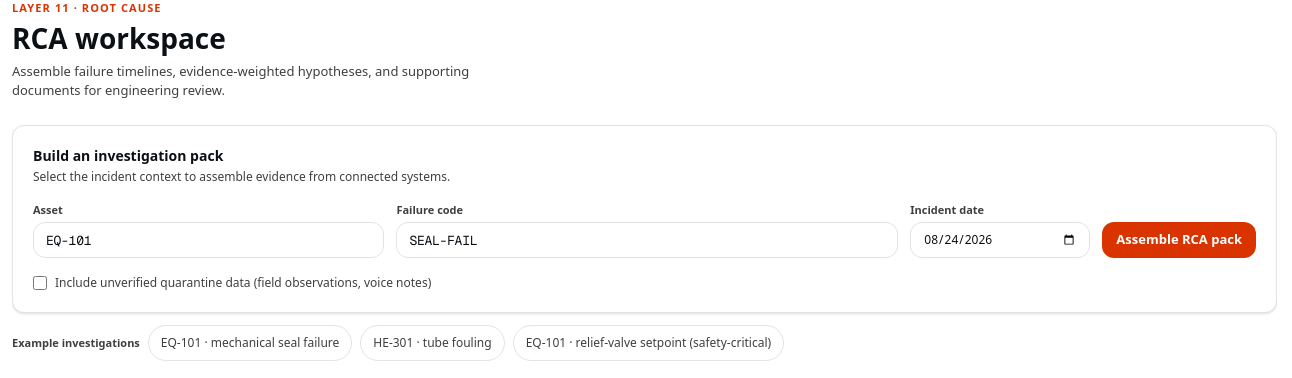
Test: RcaPage › shows the synthesis-unavailable notice and empty-hypotheses state
What coordinates should you click on to do the following:
click the button "Assemble RCA pack"
I would click on:
 (1179, 240)
Its box is [1102,222,1256,258].
(page scrolled)
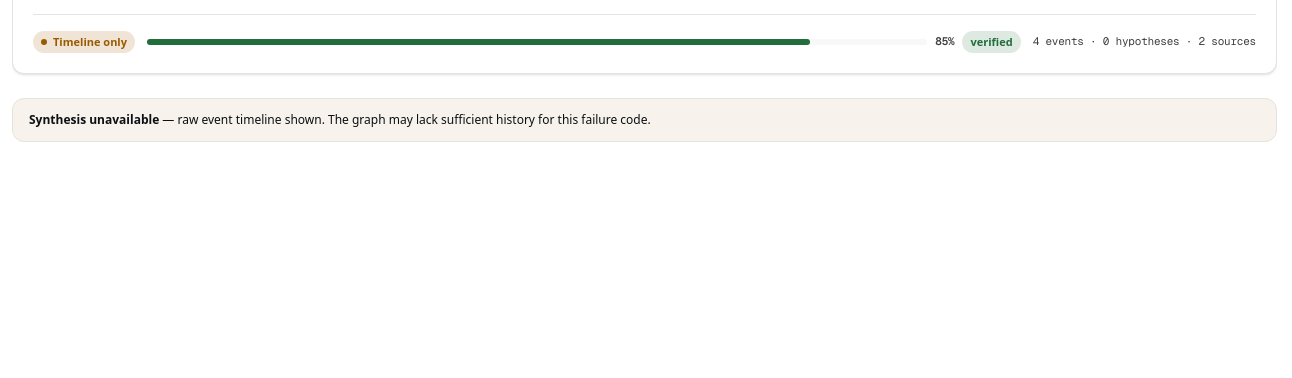
expect the text "Synthesis unavailable" is shown: met, box [29,110,159,128]
